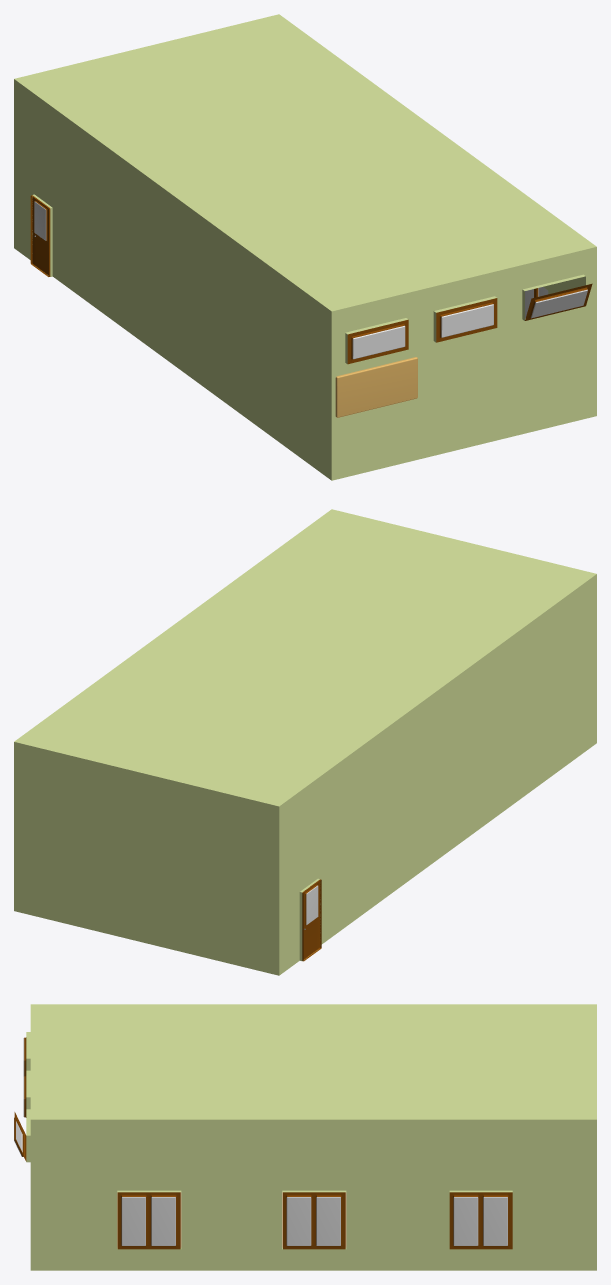
The model's file is Classroom.fbx.
The picture shows the model from 3 angles, top to bottom: view 1: azimuth 30°, elevation 25°; view 2: azimuth 150°, elevation 25°; view 3: azimuth 270°, elevation 25°; orthographic projection. The views are drawn at different scales.
Parts seen in each view (by area): view 1: ceiling, wall2, wall4, cabinet, window5, window4, door, window3; view 2: ceiling, wall2, wall1, door; view 3: wall3, ceiling, window2, window, window1, wall4, window3.
Boxes of the visible parts, box(x1,y1,x2,y2) form: ceiling: box(14, 14, 596, 311); wall2: box(14, 79, 331, 480); wall4: box(331, 247, 596, 480); cabinet: box(335, 357, 417, 417); window5: box(347, 319, 408, 364); window4: box(436, 298, 497, 342); door: box(30, 195, 50, 276); window3: box(525, 283, 592, 320); ceiling: box(14, 509, 596, 806); wall2: box(279, 574, 596, 975); wall1: box(14, 742, 279, 975); door: box(302, 879, 321, 961); wall3: box(30, 1119, 596, 1270); ceiling: box(30, 1004, 596, 1119); window2: box(117, 1192, 180, 1249); window: box(449, 1192, 512, 1249); window1: box(283, 1192, 345, 1249); wall4: box(26, 1032, 30, 1162); window3: box(14, 1112, 26, 1161).
Bounding box in the file's own units: 2238 × 1323 × 4597.
